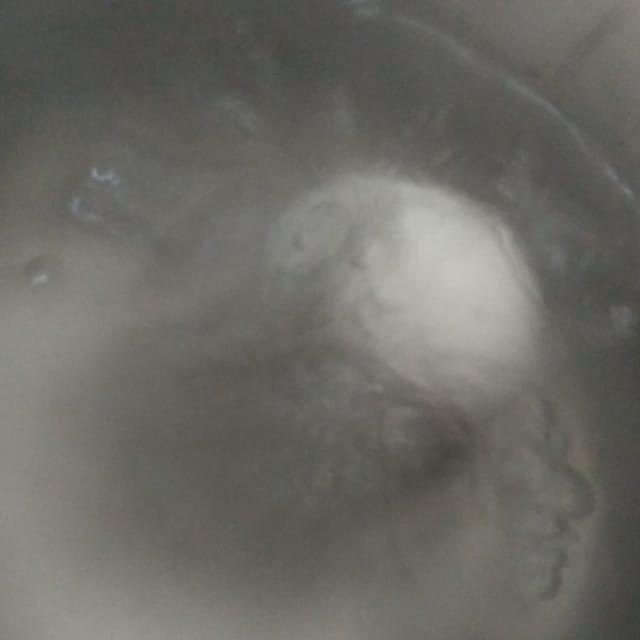egg: (0, 0, 640, 640), (288, 160, 558, 471)
